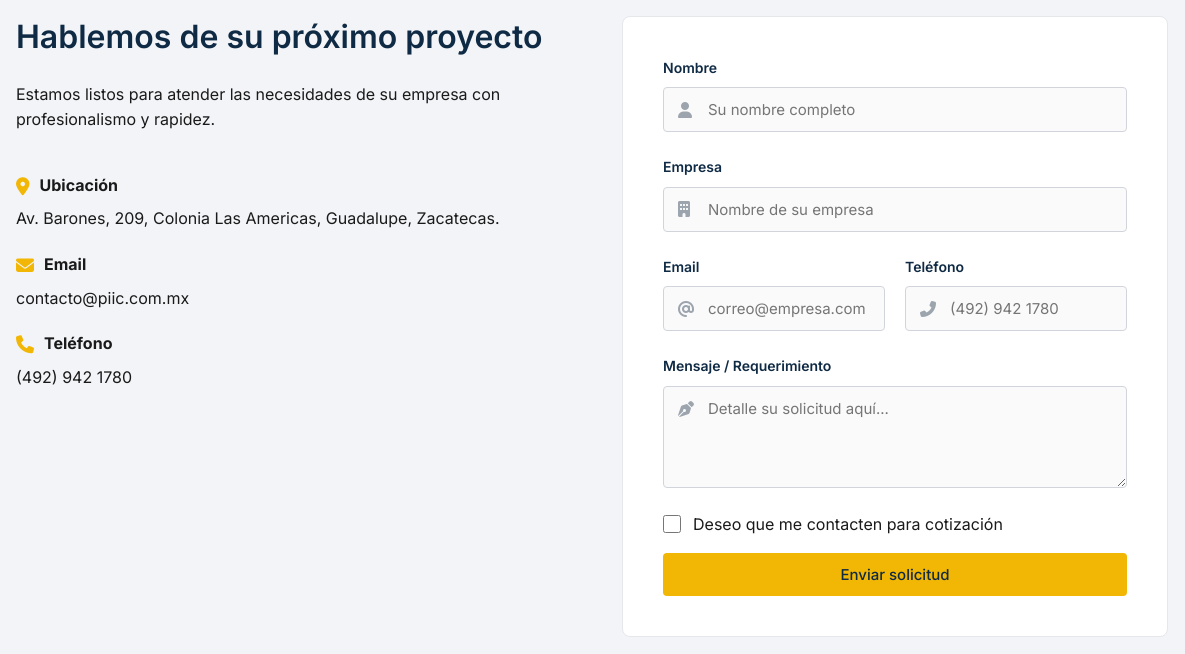
Test: Contact Component › transmits consent when checkbox is checked
Note: Fill minimum required fields
Type "Consent User" into the field labelled "Nombre". click: (895, 110)
box: x1=663 y1=87 x2=1127 y2=132
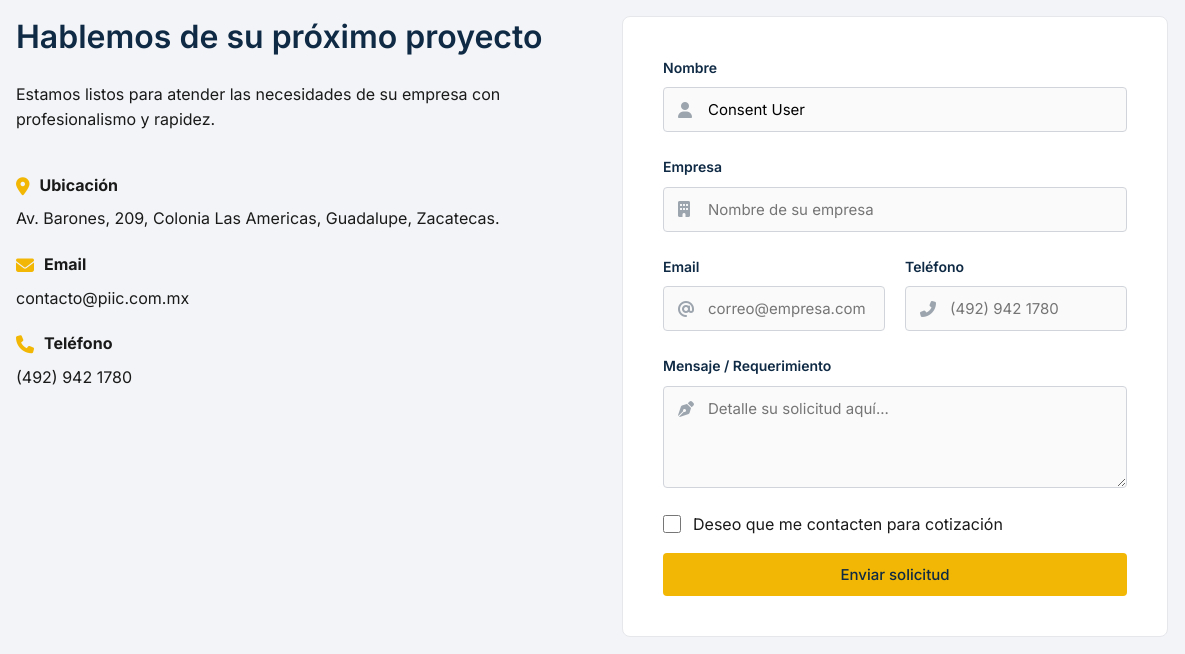
Type "Consent Corp" into the field labelled "Empresa". click: (895, 209)
box: x1=663 y1=187 x2=1127 y2=232
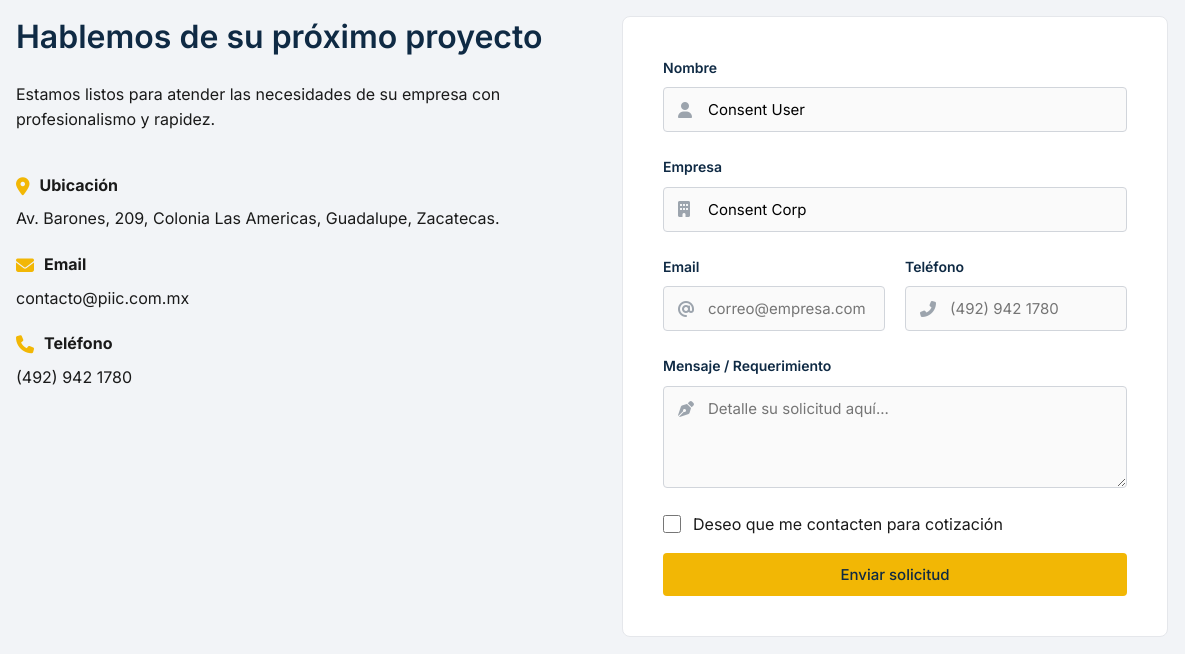
Type "consent@corp.com" into the field labelled "Email". click: (774, 309)
box: x1=663 y1=286 x2=885 y2=331
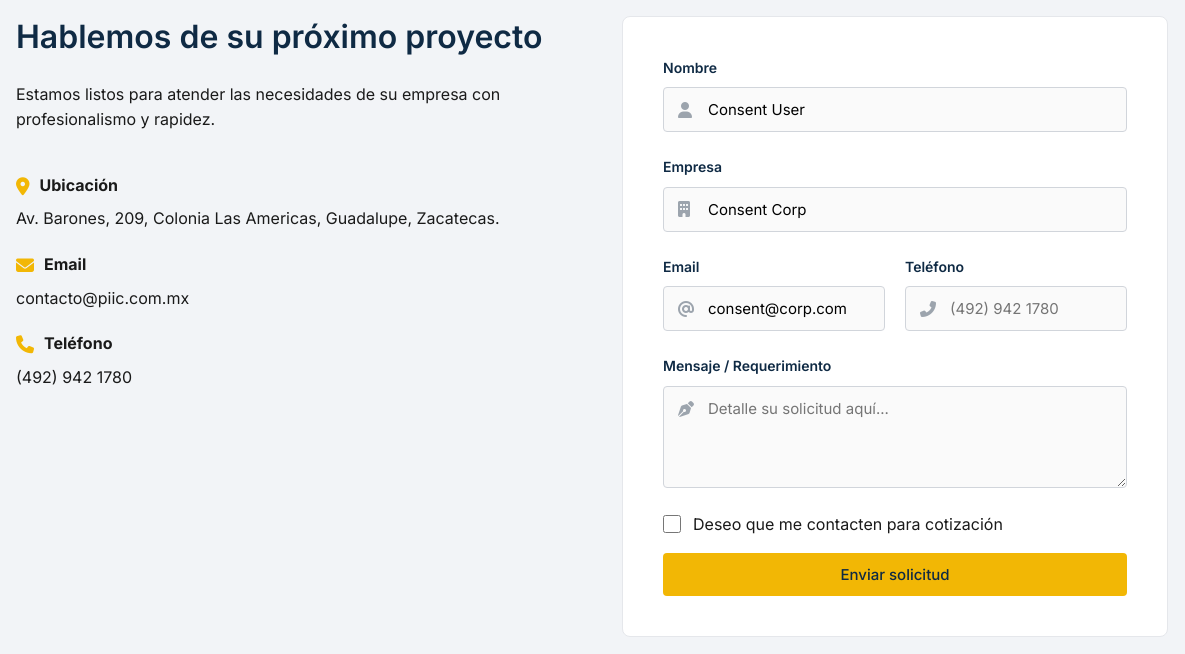
Type "Checking consent" into the text box labelled "Mensaje / Requerimiento". click: (895, 437)
box: x1=663 y1=386 x2=1127 y2=488
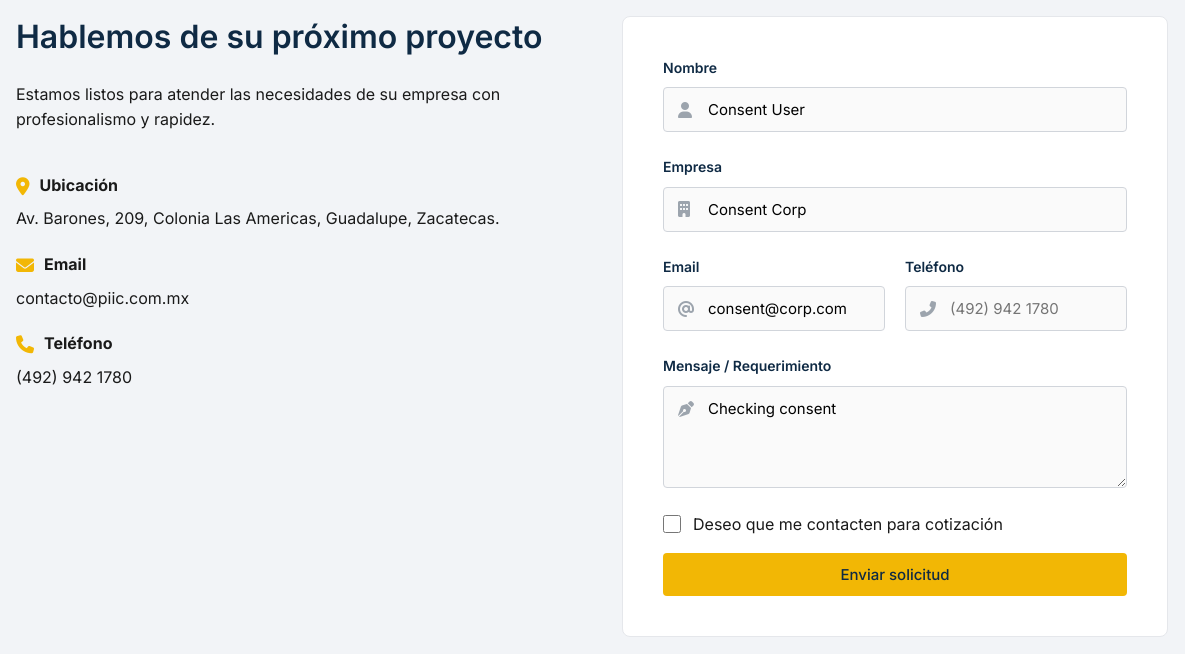
Note: Check the consent box
Click the checkbox labelled "Deseo que me contacten para cotización". click: (672, 524)
box: x1=663 y1=515 x2=681 y2=533
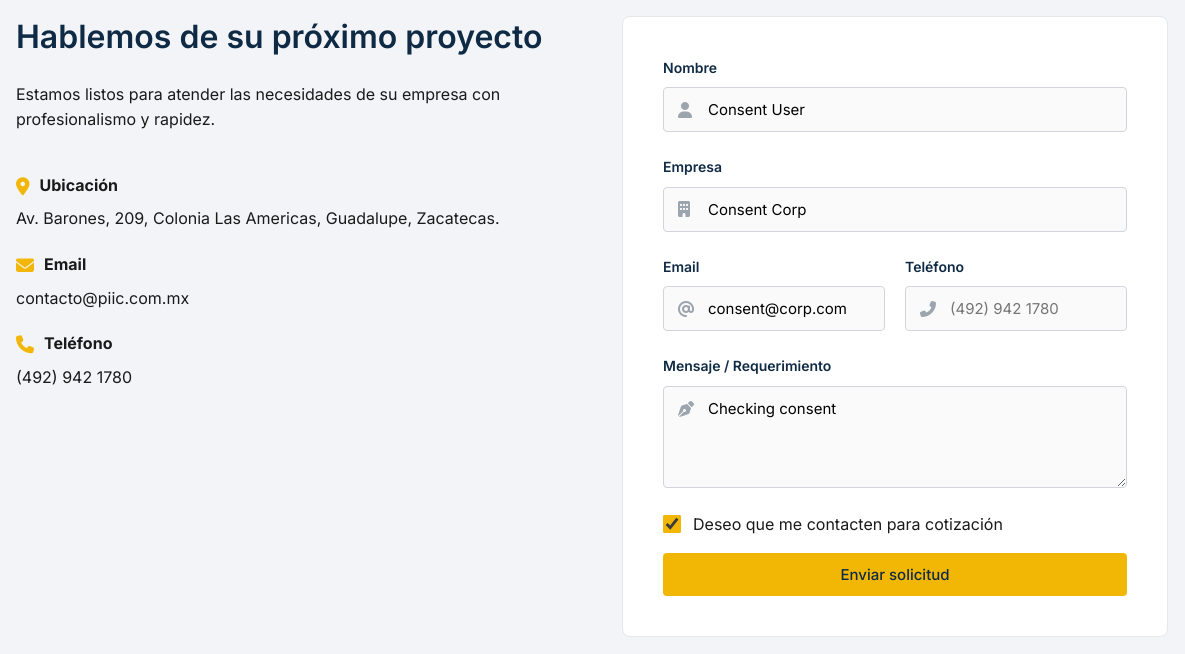
Click the button "Enviar solicitud". click: (895, 575)
box: x1=663 y1=553 x2=1127 y2=596
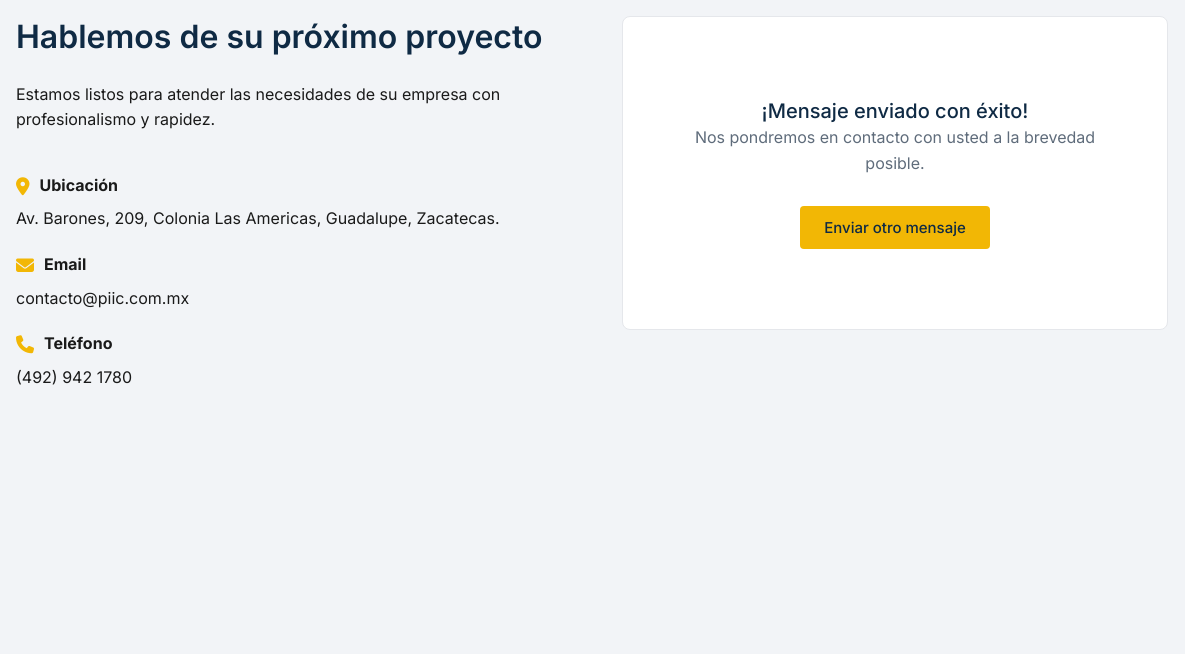
Expected: the heading "¡Mensaje enviado con éxito!" is shown, x1=762 y1=99 x2=1028 y2=123
